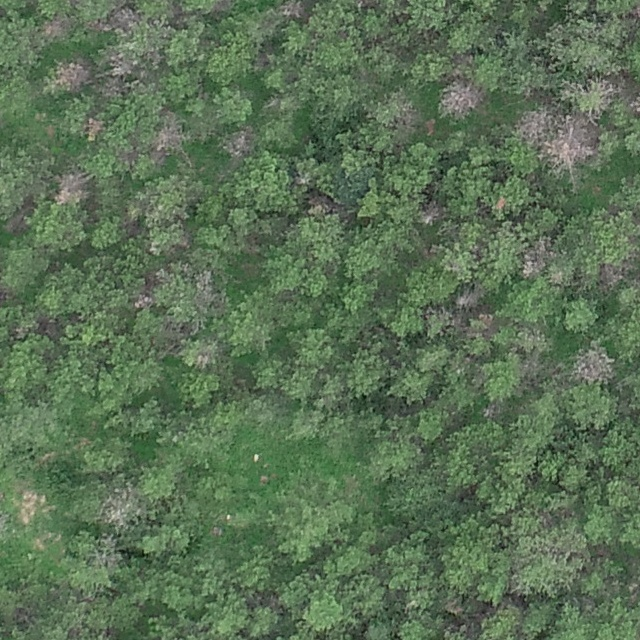unhealthy: (545, 114, 599, 169), (556, 78, 615, 116), (568, 346, 615, 386), (99, 486, 140, 529), (439, 79, 485, 117), (51, 56, 93, 91), (52, 169, 91, 206), (151, 118, 184, 161), (515, 106, 552, 142), (519, 237, 551, 278), (221, 124, 255, 159), (91, 534, 124, 569), (193, 270, 222, 309), (516, 353, 547, 385), (305, 191, 343, 217), (105, 49, 137, 79), (108, 5, 139, 32), (40, 14, 72, 40), (598, 262, 626, 290), (454, 286, 482, 309), (419, 199, 444, 224), (278, 0, 306, 20), (83, 116, 104, 139), (207, 0, 236, 15), (443, 594, 464, 614), (132, 293, 155, 310), (482, 400, 502, 419), (628, 93, 639, 118), (351, 0, 381, 9), (494, 196, 506, 211)
